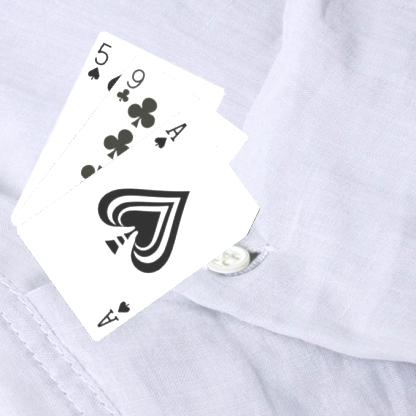5S: (84, 39, 113, 81)
9C: (113, 65, 147, 104)
AS: (94, 297, 132, 329), (151, 119, 188, 150)
